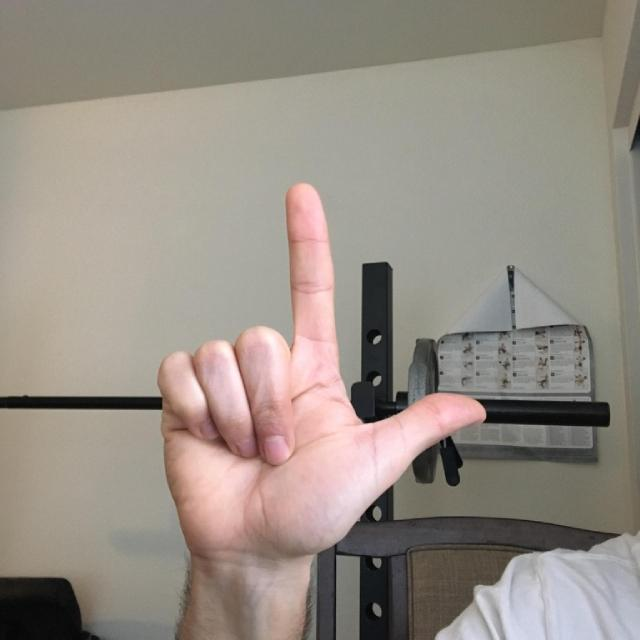L: (130, 120, 545, 640)
